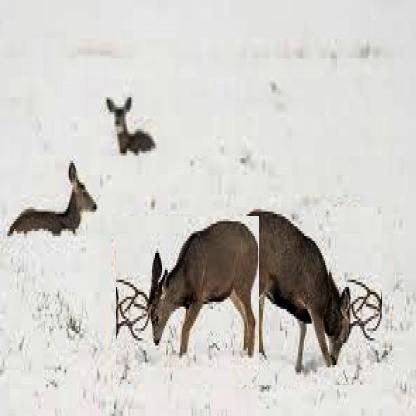Deer: (225, 207, 382, 385), (116, 216, 259, 384), (5, 161, 98, 282), (105, 95, 157, 184)
